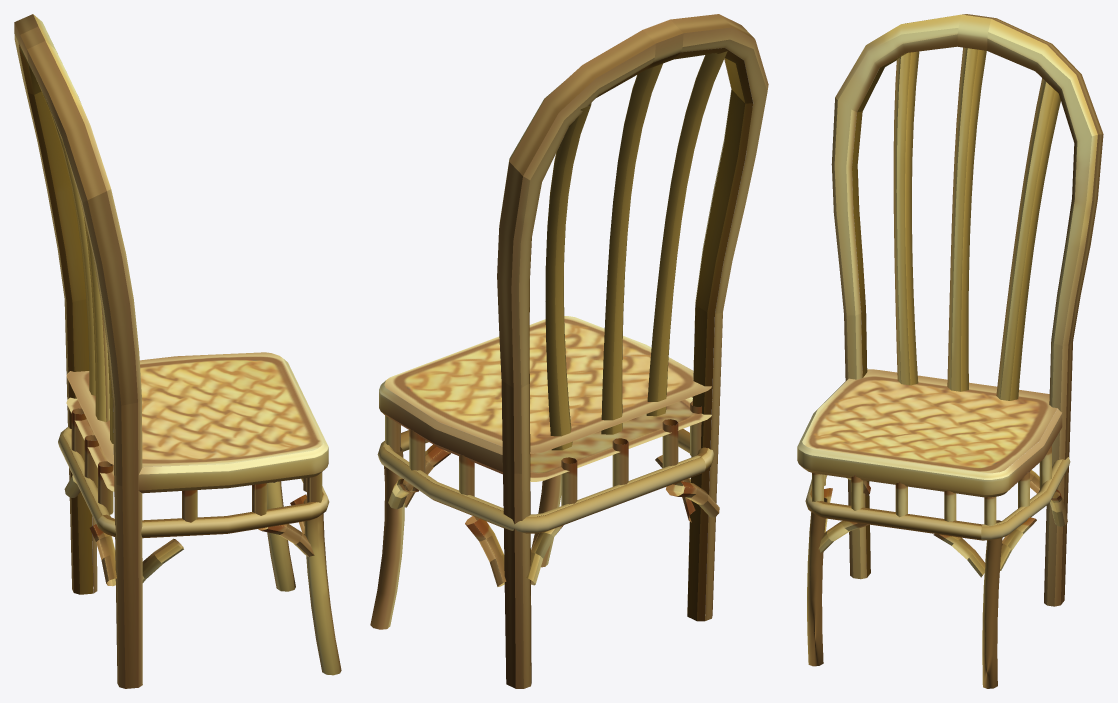
Rendered from K1_brokenchair.FBX.
3 views of the same model, side by side, from view 1: azimuth 30°, elevation 25°; view 2: azimuth 150°, elevation 25°; view 3: azimuth 270°, elevation 25° (orthographic). The views are drawn at different scales.
Visible parts, largest first — view 1: Box694, Box696, gunzi, basekuo, Cylinder018, Box700, Box701, Cylinder055, Cylinder062, Cylinder061, Cylinder058, Cylinder051 (+2 smaller); view 2: Box696, Box694, gunzi, basekuo, Box700, Box699, Box701, Cylinder055, Cylinder060, Cylinder062, Cylinder018, Cylinder050 (+5 smaller); view 3: Box694, Box696, Box700, Box701, Box699, basekuo, gunzi, Cylinder055, Cylinder018, Cylinder057, Cylinder059, Cylinder056.
Boxes of the visible parts, bbox=[...] form: Box694: bbox=[66, 352, 328, 493]; Box696: bbox=[14, 14, 142, 486]; gunzi: bbox=[66, 382, 142, 688]; basekuo: bbox=[58, 427, 329, 538]; Cylinder018: bbox=[303, 498, 341, 675]; Box700: bbox=[84, 217, 109, 421]; Box701: bbox=[16, 42, 95, 395]; Cylinder055: bbox=[267, 481, 295, 591]; Cylinder062: bbox=[89, 524, 116, 586]; Cylinder061: bbox=[142, 538, 183, 582]; Cylinder058: bbox=[258, 524, 314, 557]; Cylinder051: bbox=[98, 461, 113, 514]; Box696: bbox=[497, 14, 768, 473]; Box694: bbox=[379, 316, 712, 481]; gunzi: bbox=[503, 395, 719, 688]; basekuo: bbox=[377, 429, 714, 533]; Box700: bbox=[601, 63, 662, 434]; Box699: bbox=[646, 51, 727, 416]; Box701: bbox=[545, 103, 591, 450]; Cylinder055: bbox=[370, 447, 404, 629]; Cylinder060: bbox=[465, 516, 506, 586]; Cylinder062: bbox=[666, 481, 719, 517]; Cylinder018: bbox=[531, 474, 561, 567]; Cylinder050: bbox=[612, 438, 628, 488]; Box694: bbox=[797, 369, 1062, 497]; Box696: bbox=[831, 14, 1103, 420]; Box700: bbox=[947, 47, 986, 391]; Box701: bbox=[996, 78, 1060, 400]; Box699: bbox=[893, 51, 919, 385]; basekuo: bbox=[805, 457, 1070, 540]; gunzi: bbox=[848, 415, 1070, 606]; Cylinder055: bbox=[982, 520, 1002, 688]; Cylinder018: bbox=[807, 497, 827, 666]; Cylinder057: bbox=[933, 534, 985, 577]; Cylinder059: bbox=[1000, 517, 1036, 570]; Cylinder056: bbox=[818, 521, 868, 552].
Bounding box in the file's own units: 20.4 × 40.94 × 20.33.
